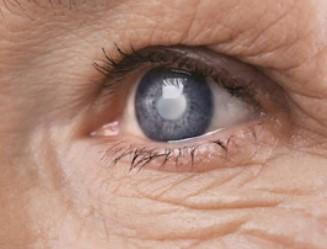eye: (132, 66, 213, 141)
